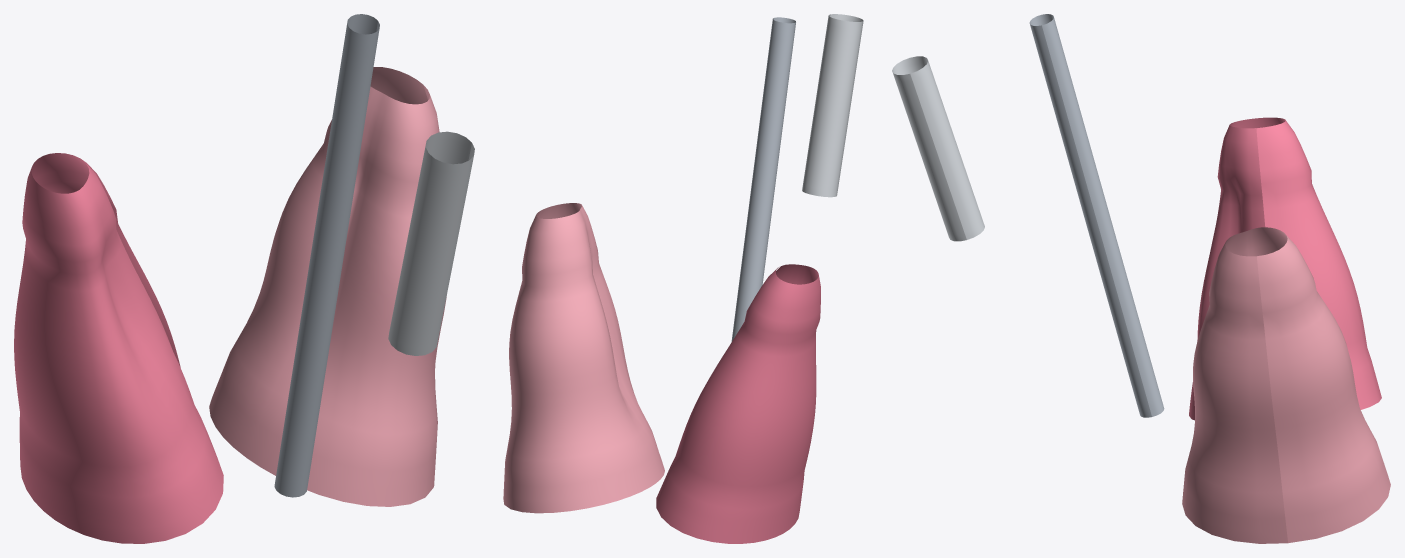
The model's file is respiratory.glb.
3 renders of one model, left to right at view 1: azimuth 30°, elevation 25°; view 2: azimuth 150°, elevation 25°; view 3: azimuth 270°, elevation 25°, orthographic. The views are drawn at different scales.
Visible parts, largest first — view 1: Mesh_Equine_Pulmo, Mesh_Equine_PulmoDexter, Mesh_Equine_Trachea, Mesh_Equine_Larynx; view 2: Mesh_Equine_PulmoDexter, Mesh_Equine_Pulmo, Mesh_Equine_Trachea, Mesh_Equine_Larynx; view 3: Mesh_Equine_PulmoDexter, Mesh_Equine_Pulmo, Mesh_Equine_Trachea, Mesh_Equine_Larynx.
Boxes of the visible parts, x1,y1,x2,y2 form: Mesh_Equine_Pulmo: (14, 153, 223, 543); Mesh_Equine_PulmoDexter: (209, 67, 446, 506); Mesh_Equine_Trachea: (274, 14, 379, 497); Mesh_Equine_Larynx: (388, 131, 474, 355); Mesh_Equine_PulmoDexter: (503, 203, 664, 513); Mesh_Equine_Pulmo: (656, 264, 820, 543); Mesh_Equine_Trachea: (731, 17, 795, 341); Mesh_Equine_Larynx: (802, 14, 863, 197); Mesh_Equine_PulmoDexter: (1182, 227, 1390, 543); Mesh_Equine_Pulmo: (1189, 117, 1381, 420); Mesh_Equine_Trachea: (1029, 14, 1164, 417); Mesh_Equine_Larynx: (892, 56, 984, 241).
Bounding box in the file's own units: 0.672 × 0.9419 × 0.9451.
